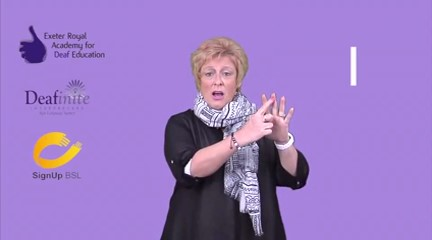I: (242, 91, 296, 143)
